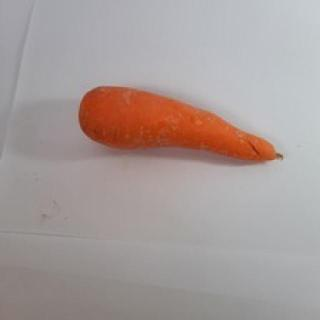carrot: (80, 86, 276, 162)
